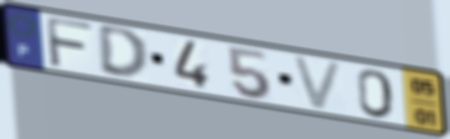0: (356, 68, 395, 119)
4: (173, 39, 214, 91)
5: (225, 43, 274, 101)
D: (95, 24, 152, 82)
F: (43, 14, 96, 71)
V: (289, 53, 347, 113)
